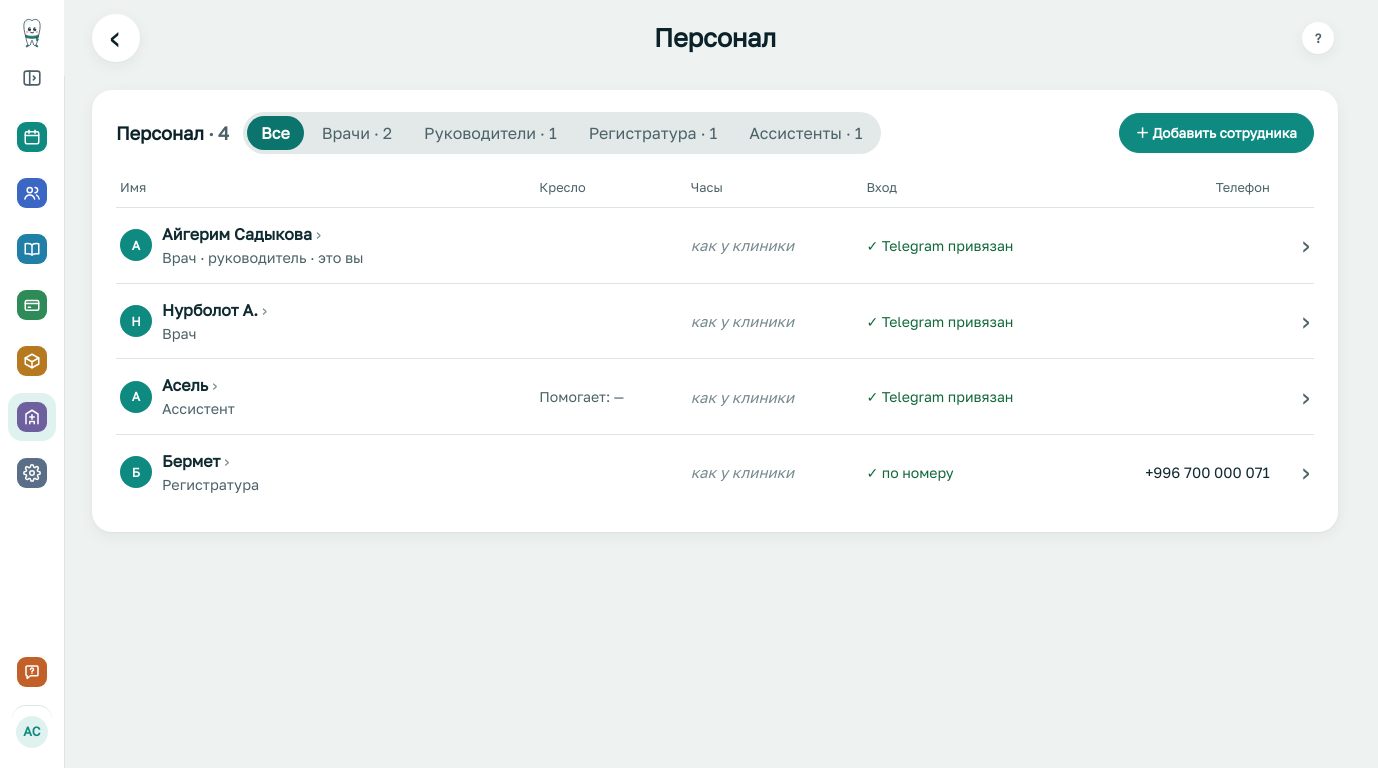
Scenario: сотрудник по номеру — «Сменить Telegram» нет; в карточке врача — есть
Click the button "Бермет" at (196, 461), box [162,449,229,473]
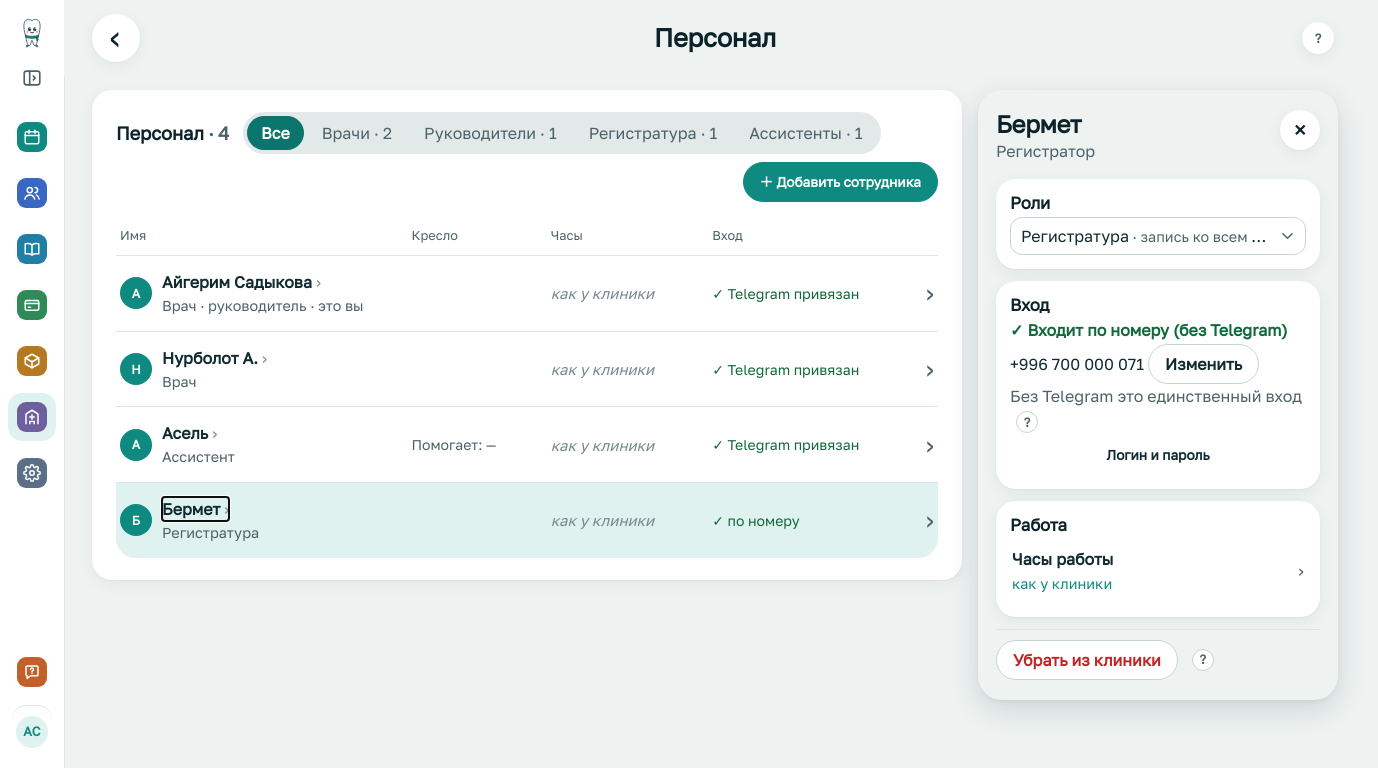
Expected: the button "Сменить Telegram" is not shown
Click the button "Нурболот А." at (215, 358), box [162,346,267,370]
(page scrolled)
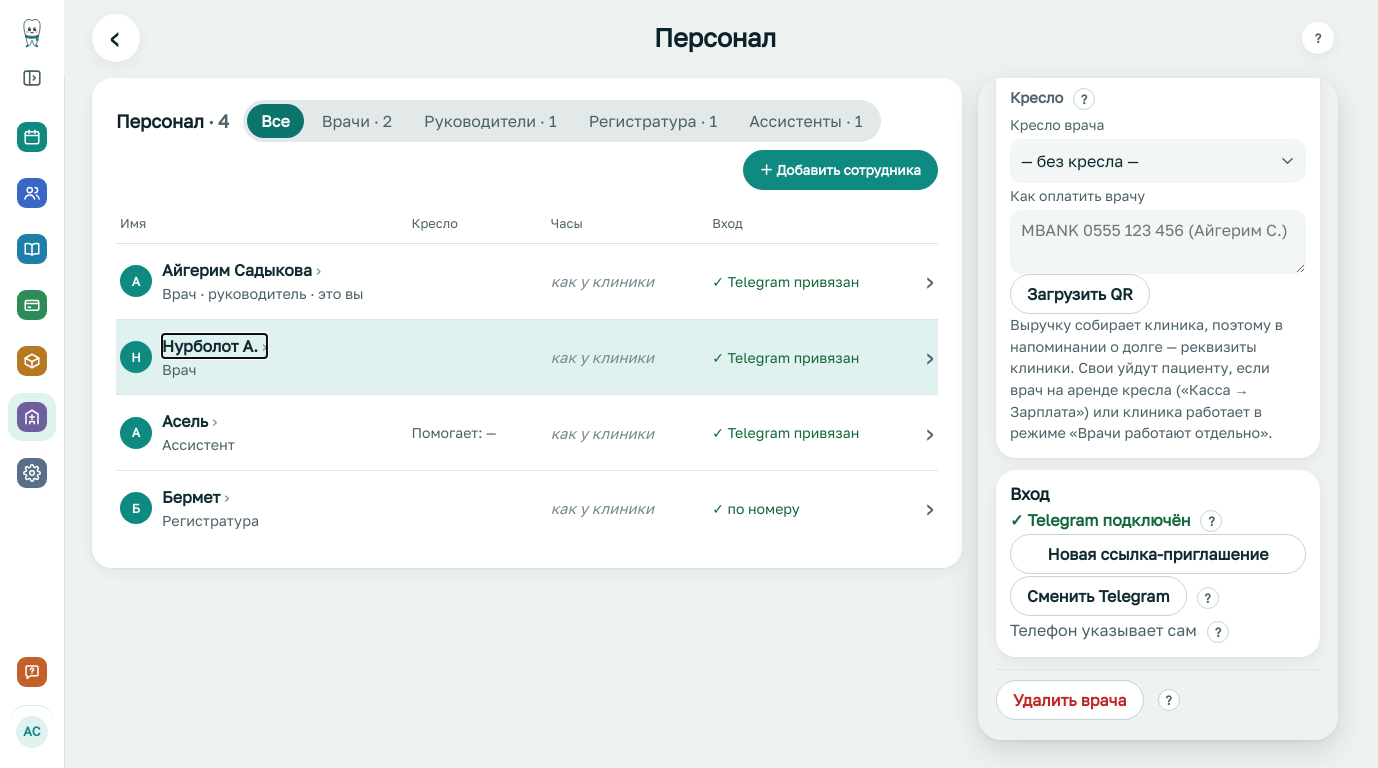
Click the button "Сменить Telegram" at (1098, 596), box [1010,576,1187,616]
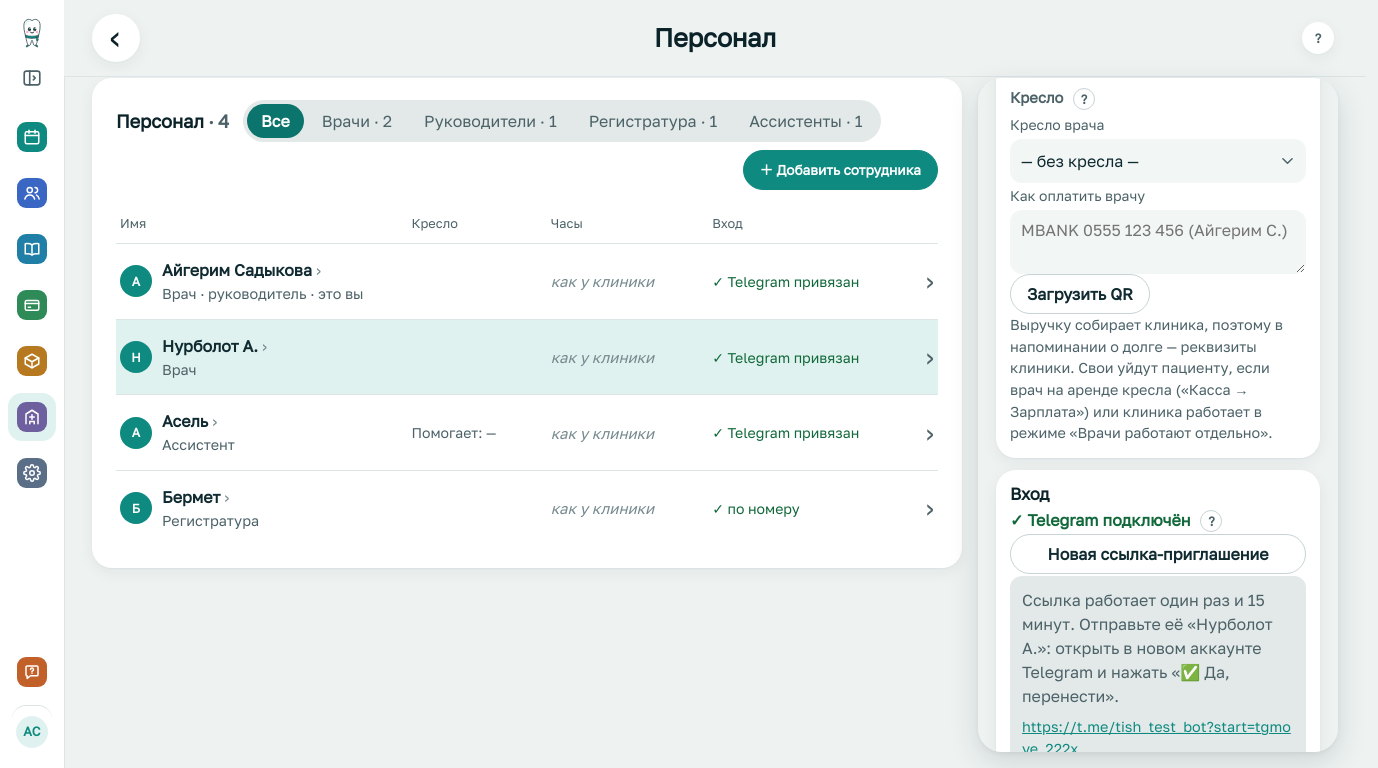
Now the link "https://t.me/tish_test_bot?start=tgmove_222x" is shown, box [1022,716,1294,752]
